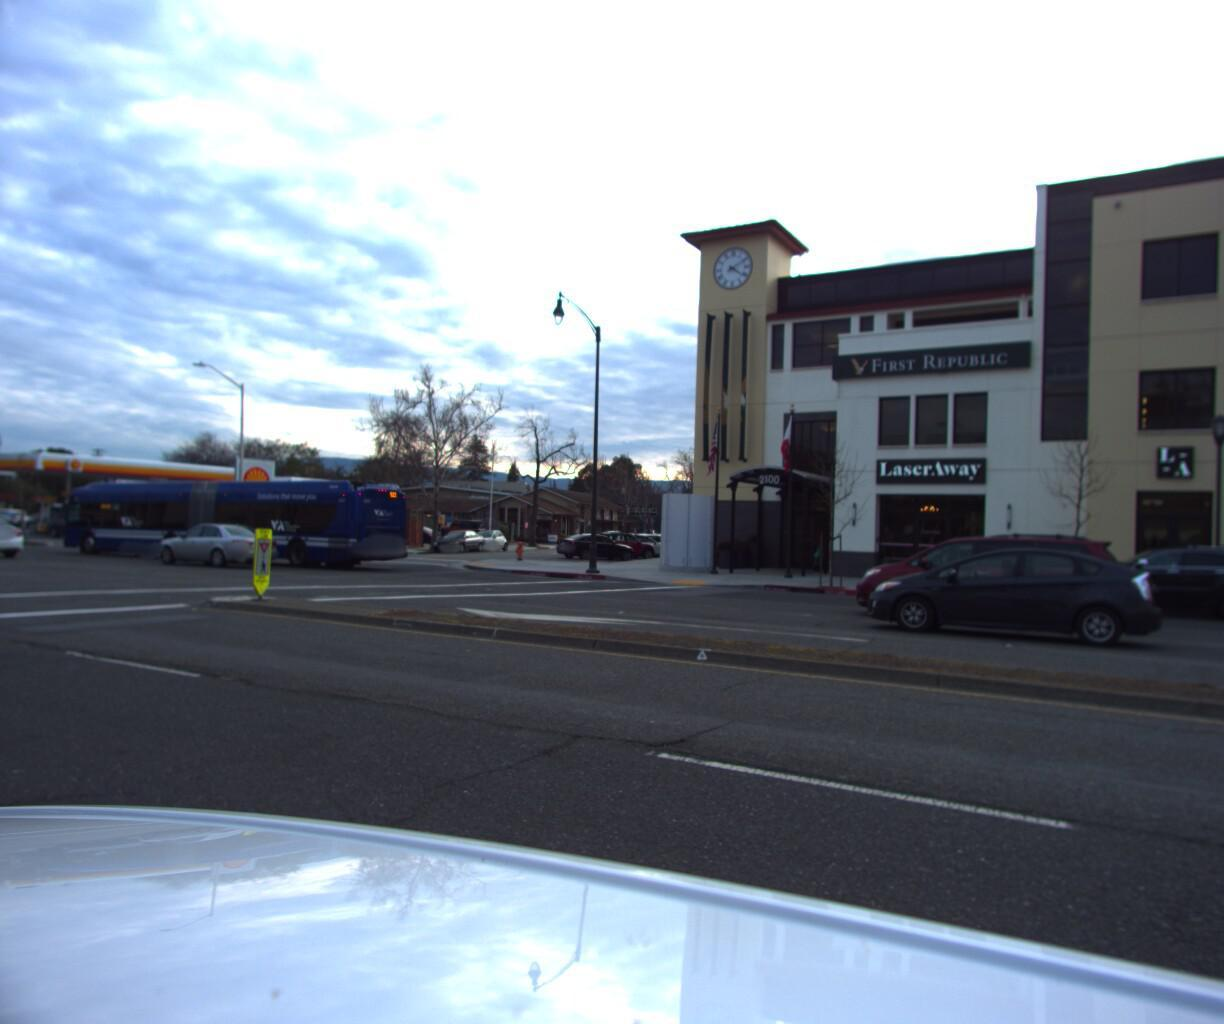bus: (62, 478, 421, 574)
car: (857, 539, 1166, 652), (851, 527, 1121, 627), (1048, 538, 1224, 629), (144, 524, 280, 573), (549, 529, 635, 561), (42, 513, 118, 543), (584, 530, 656, 559), (600, 531, 675, 558), (424, 529, 488, 557), (432, 519, 490, 545), (461, 529, 518, 555)
